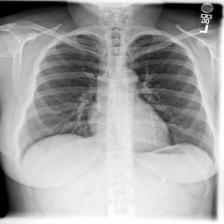normal: (14, 29, 216, 167)
